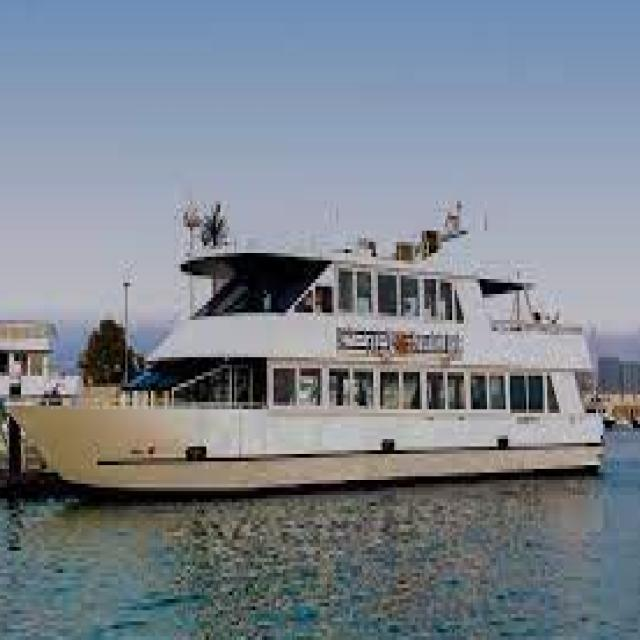passenger ship: (9, 214, 600, 491)
